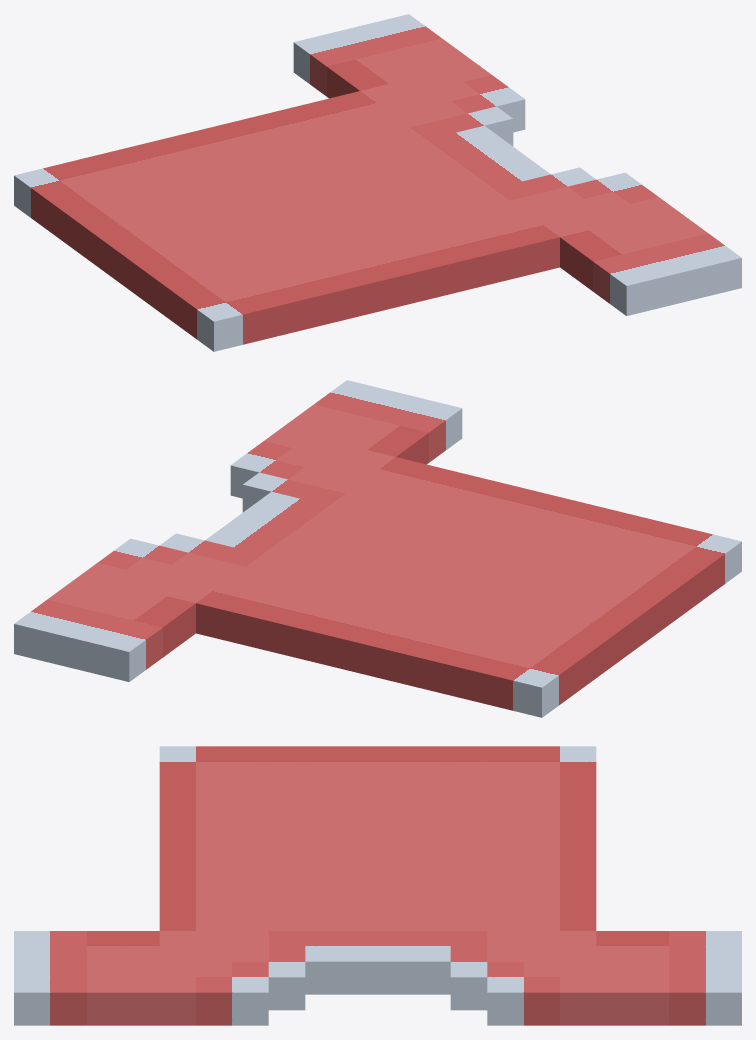
The model's file is shirt.fbx.
3 renders of one model, top to bottom at view 1: azimuth 30°, elevation 25°; view 2: azimuth 150°, elevation 25°; view 3: azimuth 270°, elevation 25°, orthographic. The views are drawn at different scales.
Visible parts, largest first — view 1: shirt; view 2: shirt; view 3: shirt.
Part boxes in pixels (<box>): shirt: <box>14,14,741,351</box>; shirt: <box>14,380,741,717</box>; shirt: <box>14,746,741,1025</box>.
Bounding box in the file's own units: 16 × 1 × 20.
